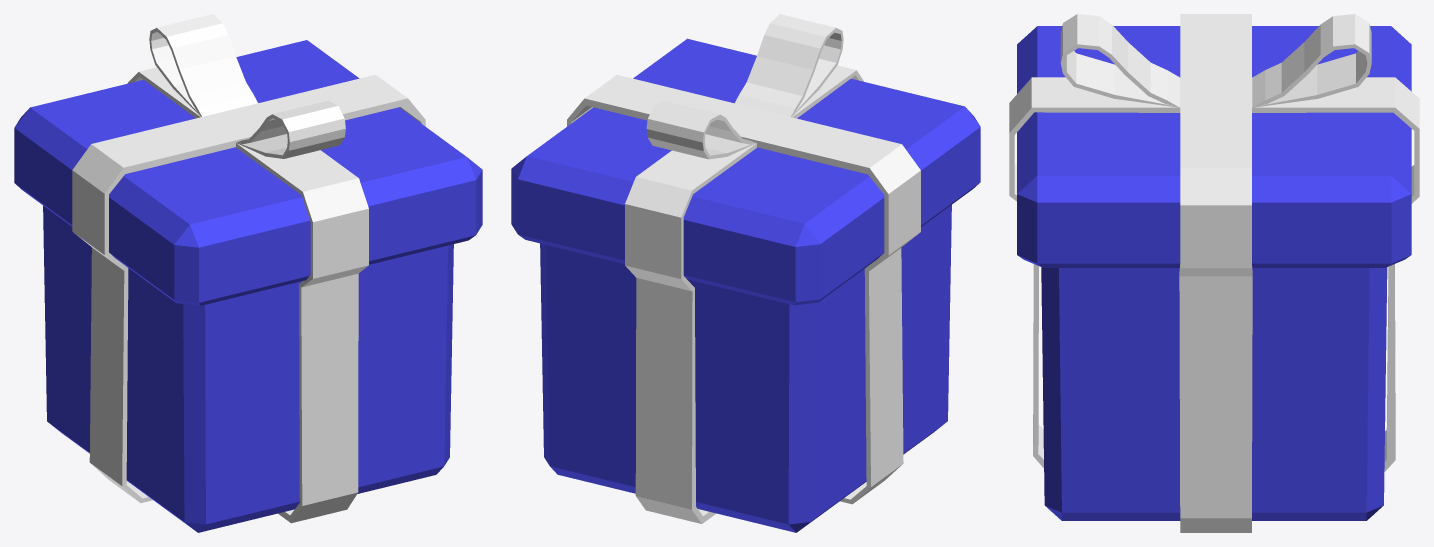
File: Present.fbx
3 views of the same model, side by side, from view 1: azimuth 30°, elevation 25°; view 2: azimuth 150°, elevation 25°; view 3: azimuth 270°, elevation 25° (orthographic). The views are drawn at different scales.
Parts seen in each view (by area): view 1: present, ribbon; view 2: present, ribbon; view 3: present, ribbon.
Boxes of the visible parts, x1,y1,x2,y2 form: present: (14, 40, 482, 532); ribbon: (72, 14, 425, 523); present: (511, 38, 980, 532); ribbon: (567, 14, 920, 523); present: (1017, 26, 1411, 520); ribbon: (1009, 14, 1419, 532).
Size of the model in its own units: 208 by 246 by 208.
